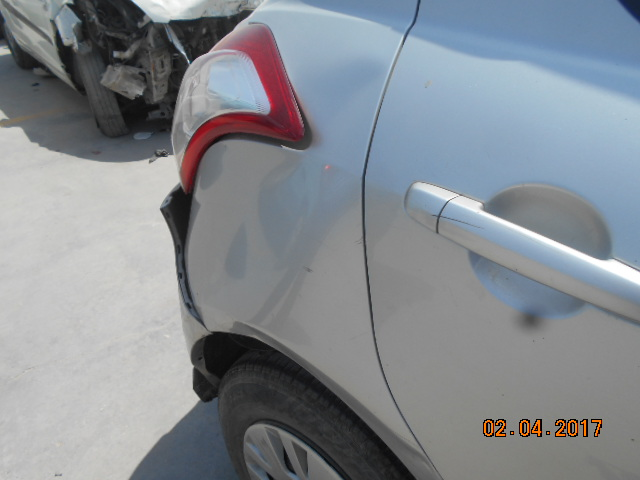Dislocation: (161, 171, 204, 320)
